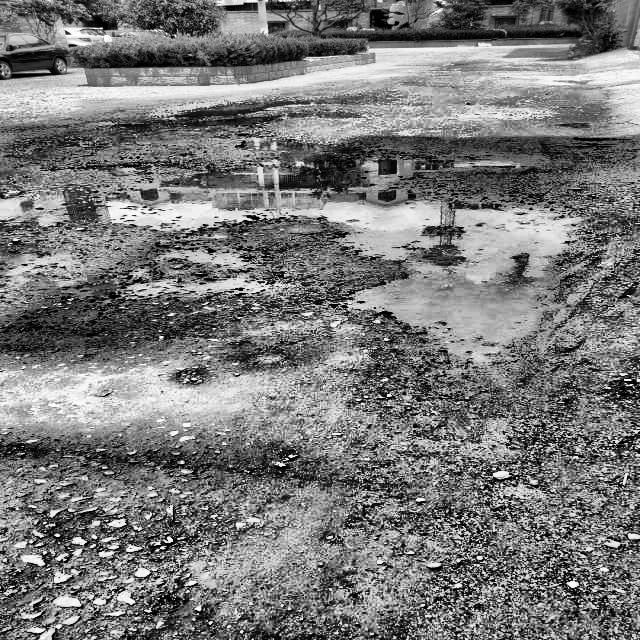buraco: (117, 132, 550, 376), (174, 100, 394, 130), (434, 150, 547, 171)
